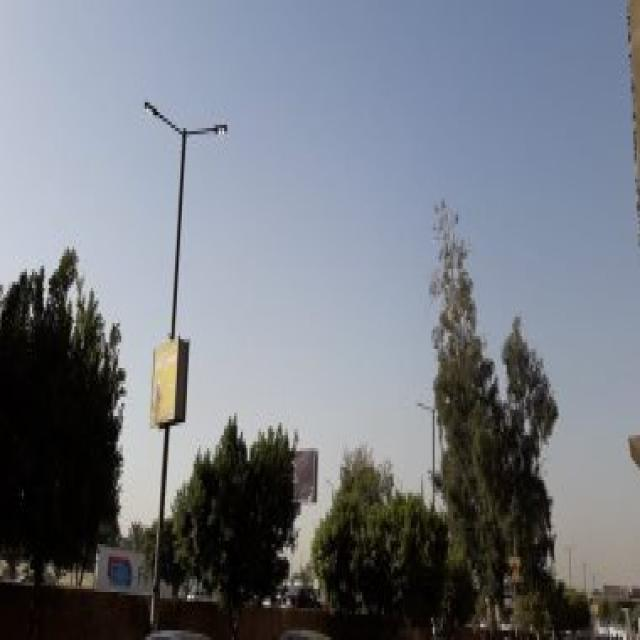Street Light: (142, 96, 226, 627), (416, 400, 446, 611)
